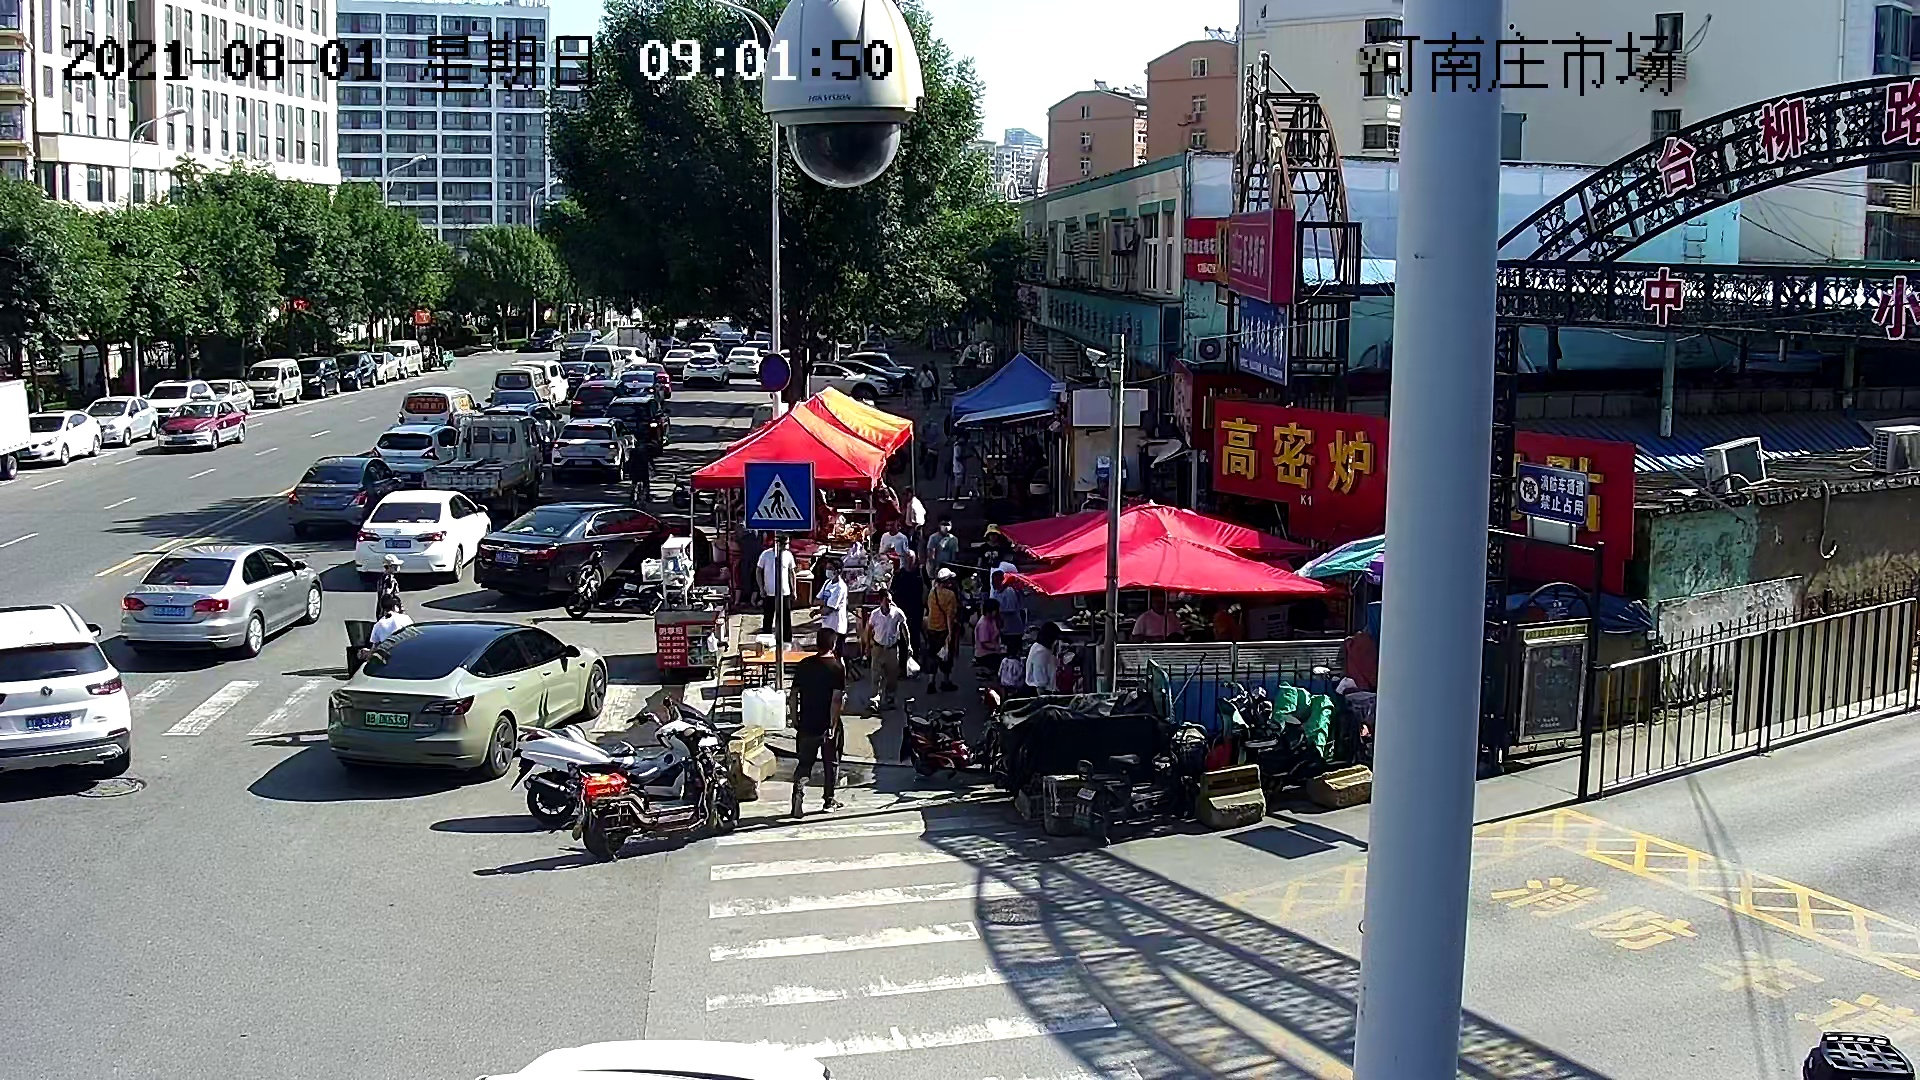chair: (736, 641, 766, 679), (720, 678, 746, 712)
table: (741, 647, 818, 678)
table_chair: (720, 640, 819, 713)
umbrella: (997, 529, 1349, 601), (993, 501, 1317, 563), (690, 400, 887, 489), (725, 382, 914, 459), (949, 349, 1062, 419)
uncertain: (1284, 531, 1386, 588)
